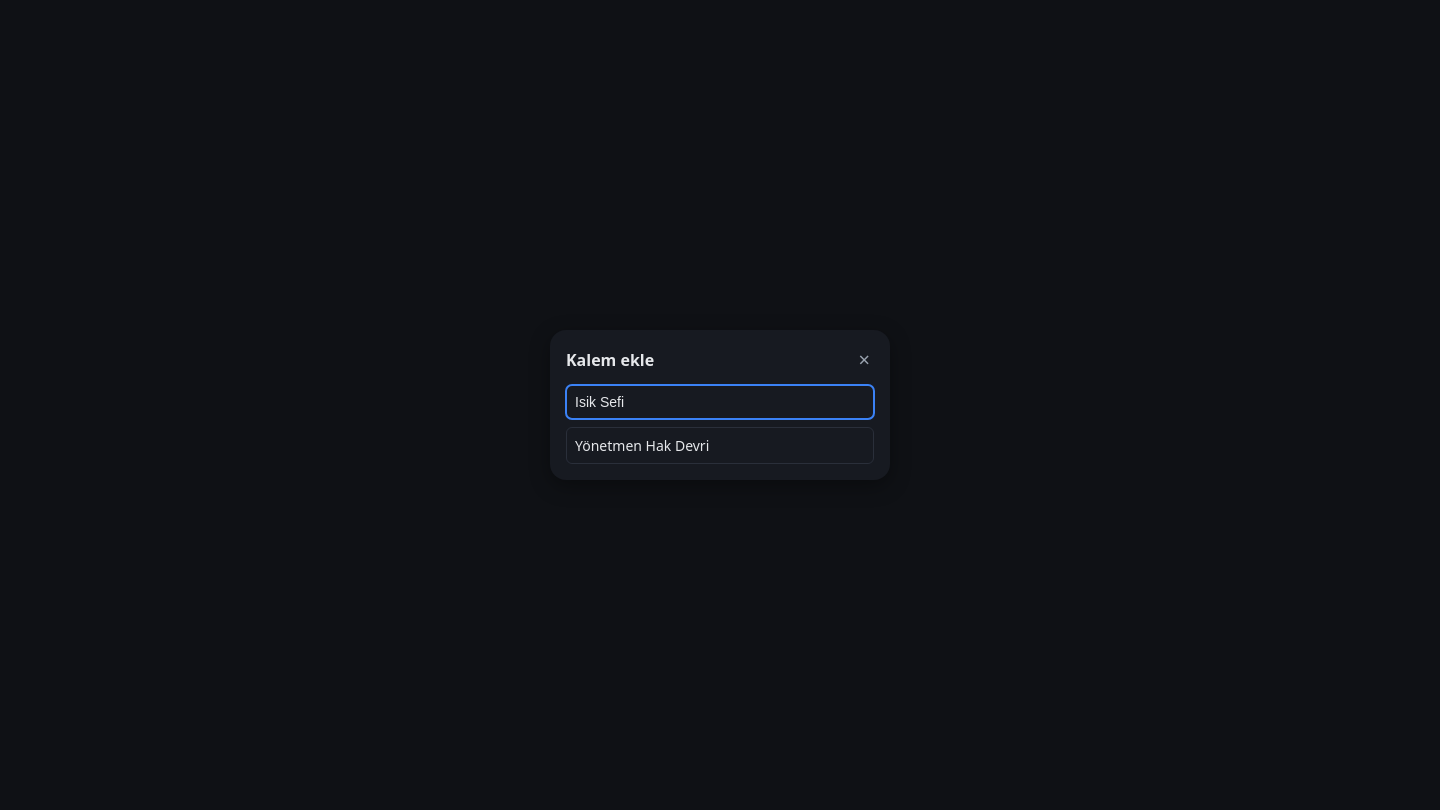
Kime? zimba (1500 Dilim 2a-3b) › secenege tiklaninca ikinci adim acilir ve satirlar Kime? adlariyla listelenir
Click the button "Yönetmen Hak Devri". click: (642, 446)
box: [567,428,873,463]
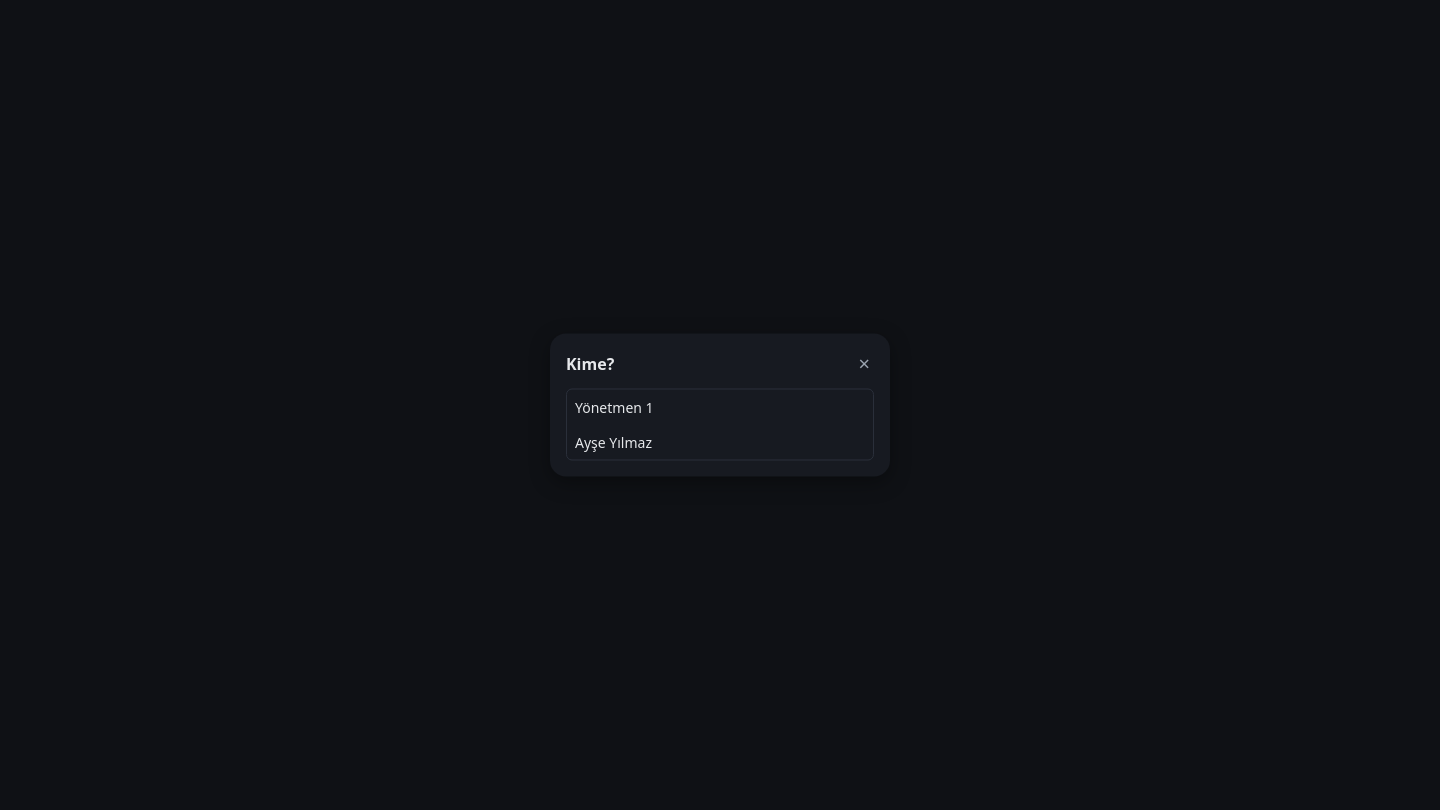
Expected: the dialog shows "Yönetmen 1", [567,390,873,424]
Expected: the dialog shows "Ayşe Yılmaz", [567,424,873,460]
